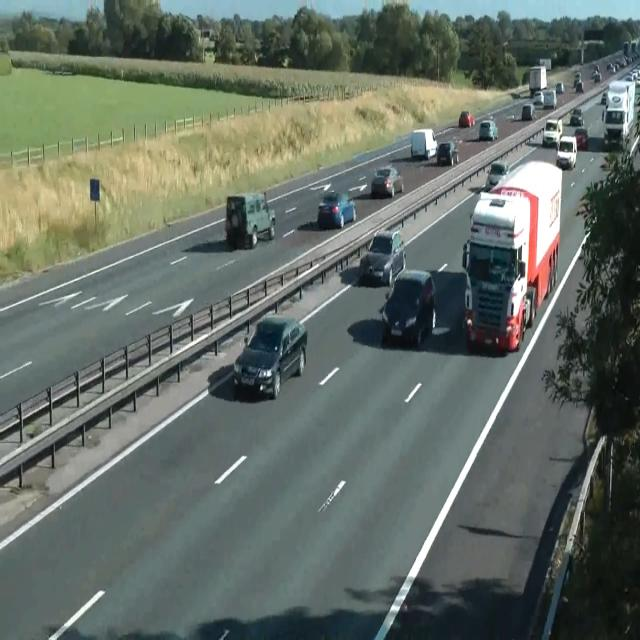bus: (370, 166, 404, 198), (624, 134, 640, 174), (436, 140, 458, 166), (488, 160, 510, 186), (479, 119, 498, 141), (579, 228, 591, 258), (574, 126, 588, 150), (458, 110, 474, 127), (570, 108, 584, 126), (521, 103, 535, 120), (532, 90, 544, 108), (591, 65, 601, 83), (574, 71, 582, 87), (574, 81, 584, 92), (556, 81, 564, 93), (593, 72, 601, 83), (601, 91, 607, 104)
jeep: (233, 313, 307, 399), (381, 268, 436, 348), (359, 228, 405, 286), (317, 190, 356, 228), (556, 134, 576, 169), (542, 117, 562, 147)
minibus: (462, 159, 562, 352), (225, 190, 275, 249), (602, 78, 638, 150), (410, 128, 438, 160), (529, 65, 547, 97), (623, 38, 639, 62), (198, 28, 216, 49), (541, 89, 557, 109)
